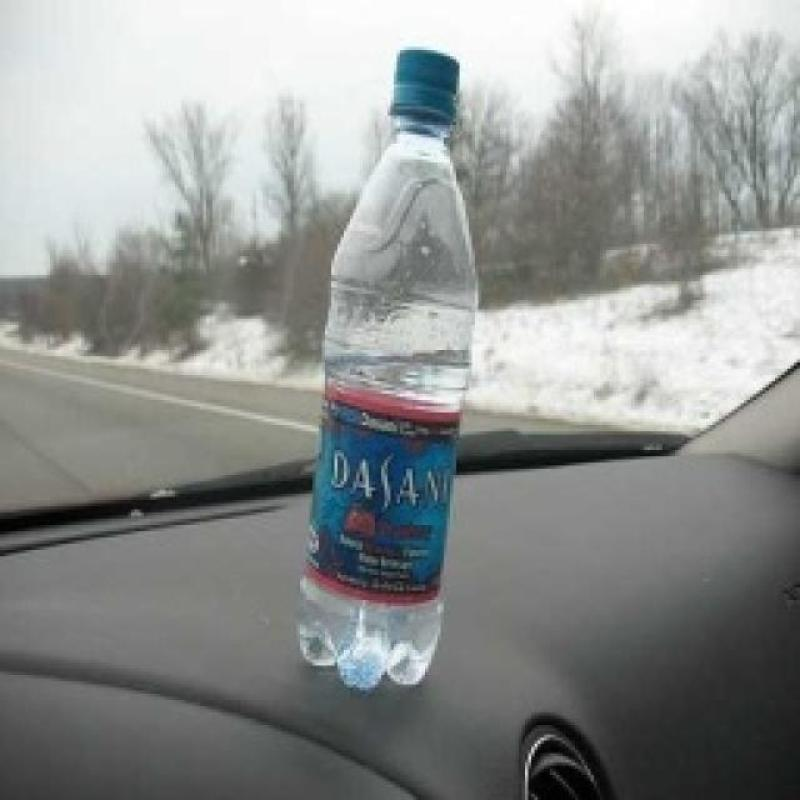botella: (297, 48, 478, 692)
